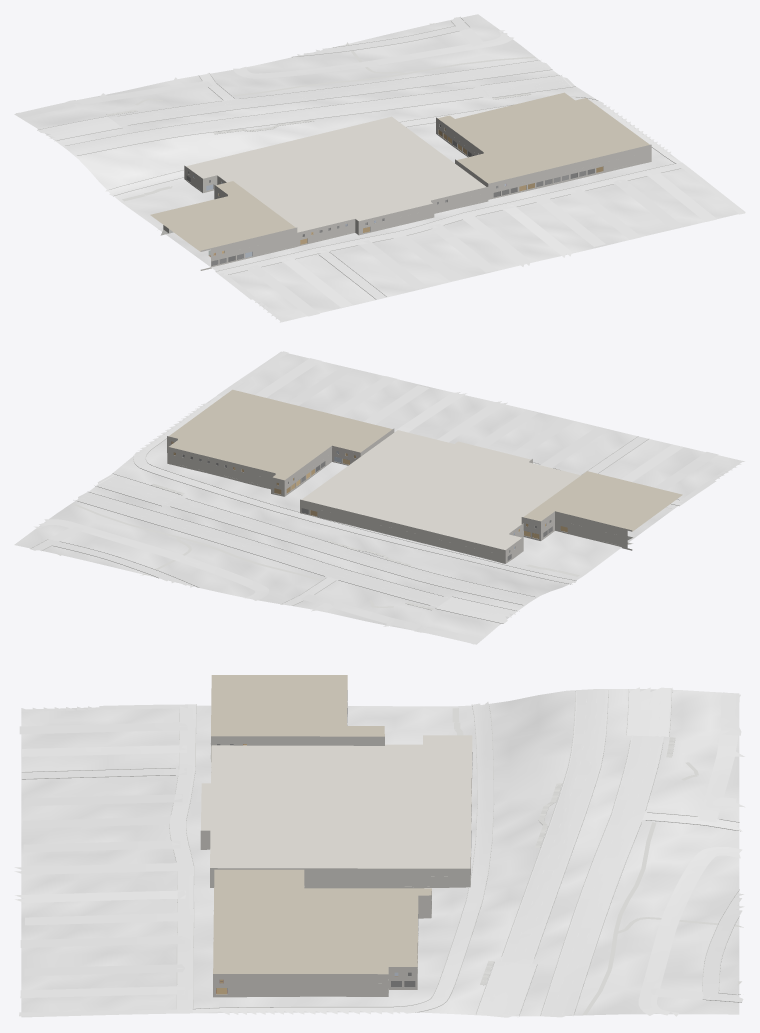
The picture shows the model from 3 angles, top to bottom: view 1: azimuth 30°, elevation 25°; view 2: azimuth 150°, elevation 25°; view 3: azimuth 270°, elevation 25°; orthographic projection. The views are drawn at different scales.
Visible parts, largest first — view 1: ground, roof_flat, concrete, asphalt, wall_com, curb, walk, glass, mark_w; view 2: ground, roof_flat, concrete, asphalt, wall_com, curb, walk, glass_lit, mark_w; view 3: ground, roof_flat, concrete, asphalt, wall_com, curb, walk, mark_w, mark_y.
Boxes of the visible parts, x1,y1,x2,y2 form: ground: (14, 14, 745, 321); roof_flat: (150, 92, 649, 251); concrete: (16, 17, 744, 322); asphalt: (37, 61, 574, 155); wall_com: (184, 117, 651, 270); curb: (37, 16, 680, 299); walk: (106, 23, 535, 201); glass: (186, 124, 594, 265); mark_w: (38, 60, 574, 155); ground: (14, 351, 741, 644); roof_flat: (169, 389, 682, 549); concrete: (30, 351, 744, 644); asphalt: (78, 474, 535, 623); wall_com: (167, 428, 632, 563); curb: (30, 396, 679, 623); walk: (56, 483, 579, 609); glass_lit: (171, 441, 567, 548); mark_w: (81, 474, 534, 623); ground: (21, 689, 739, 1017); roof_flat: (201, 675, 472, 974); concrete: (14, 692, 745, 1016); asphalt: (476, 687, 671, 1017); wall_com: (200, 690, 472, 997); curb: (21, 688, 741, 1016); walk: (452, 708, 743, 1015); mark_w: (477, 688, 670, 1016); mark_y: (517, 690, 632, 1017).
Size of the model in its own units: 258 by 13.12 by 255.
